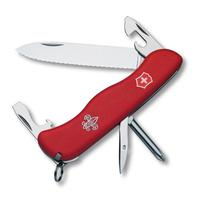knife: (21, 15, 185, 192)
